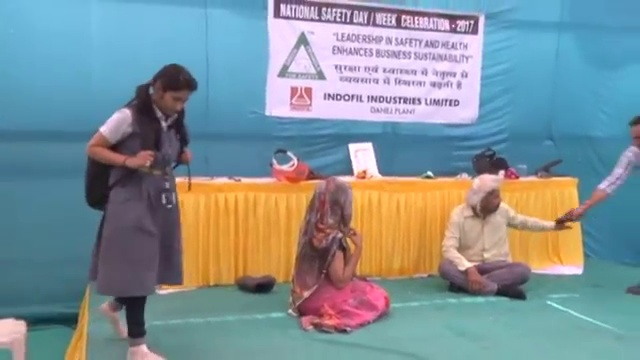helmet_off: (149, 64, 198, 117), (303, 177, 354, 226), (469, 173, 503, 217), (628, 115, 640, 150)
person: (82, 62, 199, 360), (438, 174, 565, 318), (288, 177, 391, 335), (559, 111, 640, 227)
